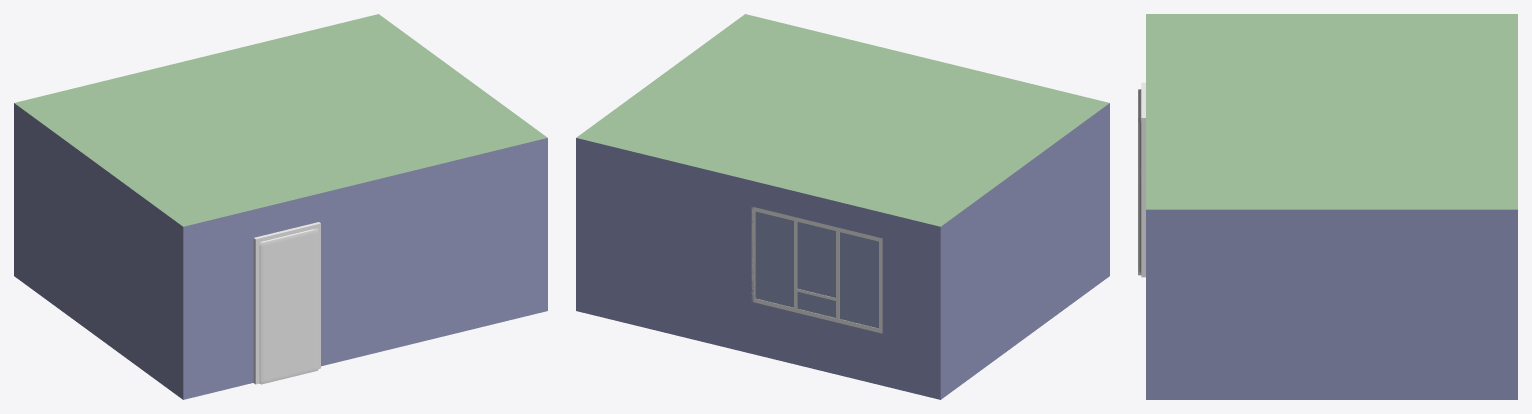
File: hw2_room.fbx
The picture shows the model from 3 angles, left to right: view 1: azimuth 30°, elevation 25°; view 2: azimuth 150°, elevation 25°; view 3: azimuth 270°, elevation 25°; orthographic projection. The views are drawn at different scales.
Visible parts, largest first — view 1: Room, Door; view 2: Room, Window; view 3: Room, Door.
Part boxes in pixels (x1=…): Room: x1=14, y1=14, x2=547, y2=399; Door: x1=253, y1=222, x2=320, y2=384; Room: x1=576, y1=14, x2=1109, y2=399; Window: x1=751, y1=207, x2=882, y2=333; Room: x1=1146, y1=14, x2=1517, y2=399; Door: x1=1138, y1=82, x2=1145, y2=277.
Size of the model in its own units: 5403 by 2456 by 4432.
